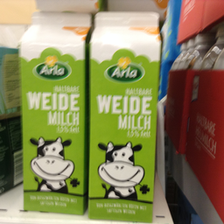milk: (87, 12, 160, 224), (16, 11, 90, 216)
